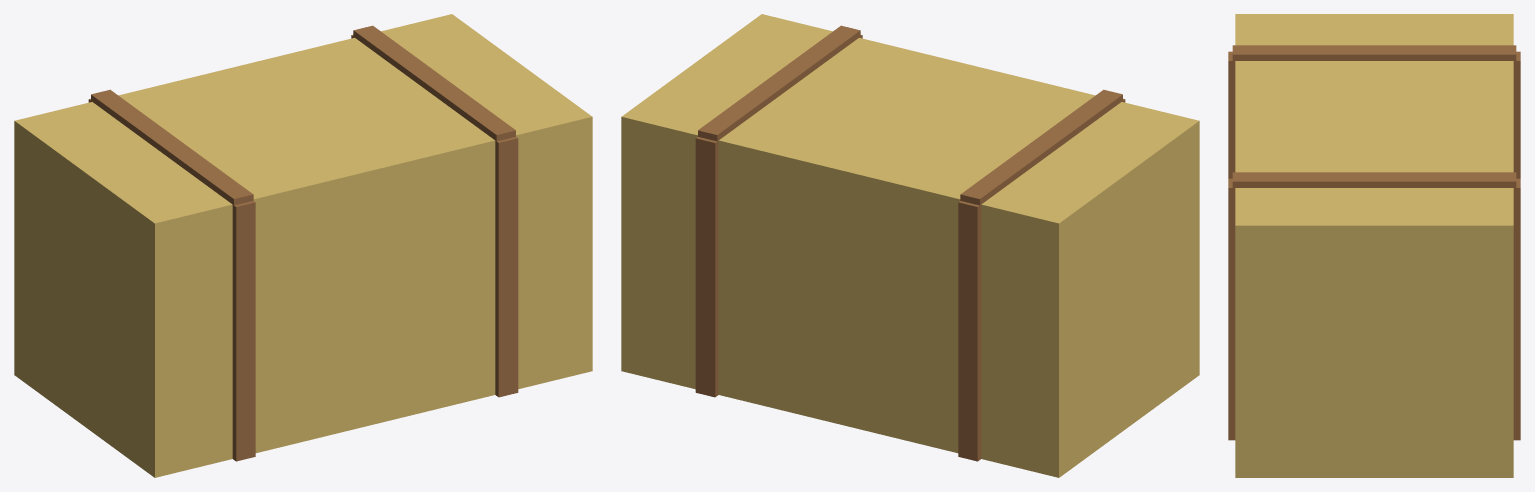
Rendered from TR3_HayBale_Rectangular.glb.
3 renders of one model, left to right at view 1: azimuth 30°, elevation 25°; view 2: azimuth 150°, elevation 25°; view 3: azimuth 270°, elevation 25°, orthographic.
Visible parts, largest first — view 1: TR3_HayBale_Rectangular; view 2: TR3_HayBale_Rectangular; view 3: TR3_HayBale_Rectangular.
Boxes of the visible parts, bbox=[...] form: TR3_HayBale_Rectangular: bbox=[14, 14, 592, 477]; TR3_HayBale_Rectangular: bbox=[621, 14, 1199, 477]; TR3_HayBale_Rectangular: bbox=[1228, 14, 1520, 477].
Size of the model in its own units: 0.9 by 0.5125 by 0.525.
